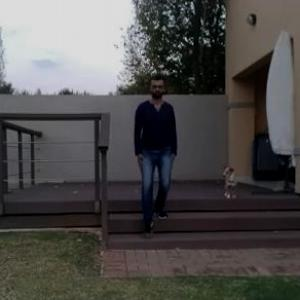follow: (132, 73, 172, 232)
